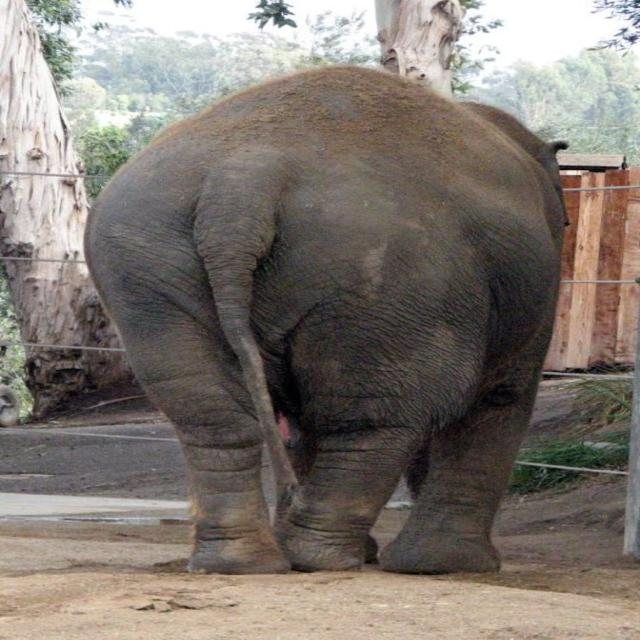elephant: (66, 60, 592, 599)
